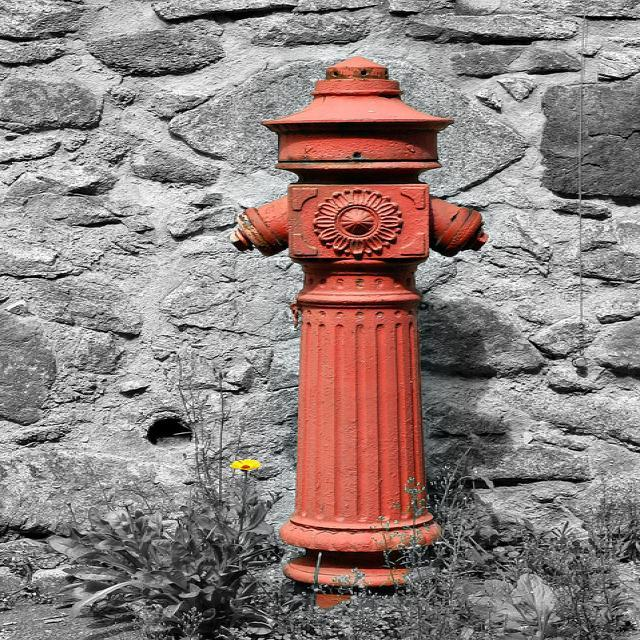fire_hydrant: (236, 64, 507, 602)
